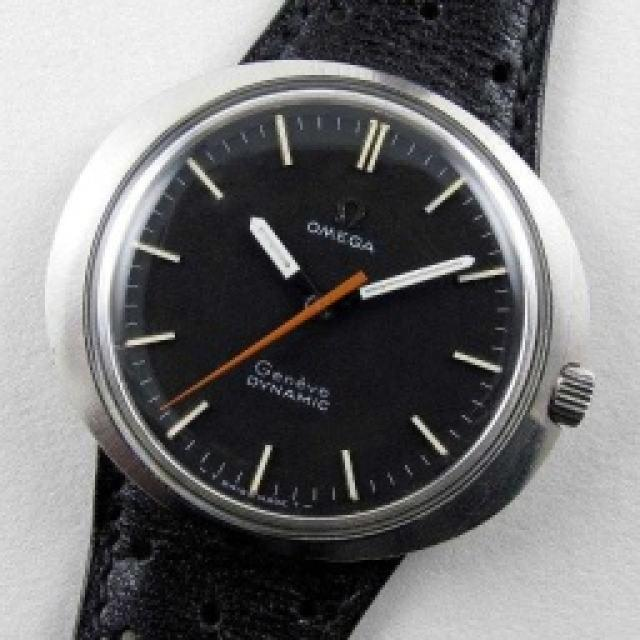saat: (39, 5, 598, 640)
